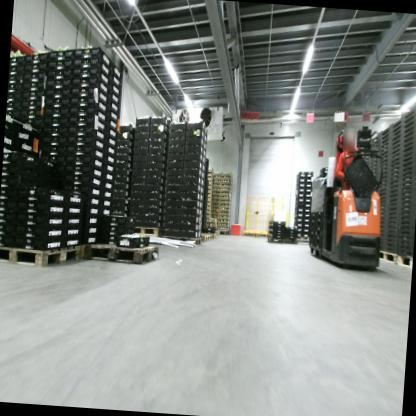pallet: (0, 233, 84, 273), (84, 237, 163, 269), (160, 232, 204, 248), (128, 224, 168, 238), (266, 236, 299, 248), (379, 248, 396, 270), (396, 250, 413, 272), (295, 234, 310, 249), (310, 244, 323, 261), (204, 231, 218, 242), (199, 234, 213, 244), (219, 229, 231, 237), (215, 229, 221, 237)
pallet_truck: (317, 116, 395, 281)
